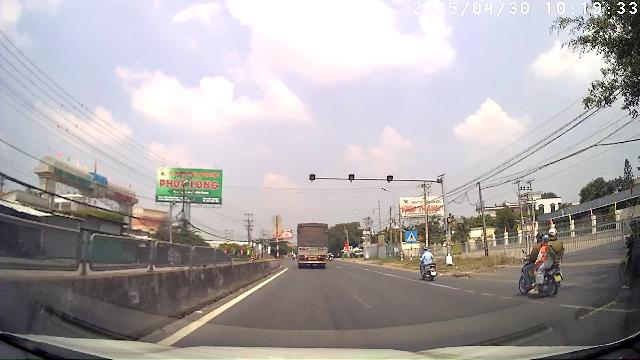423a-duong-nguoi-di-bo-sang-ngang-1: (407, 231, 417, 241)
